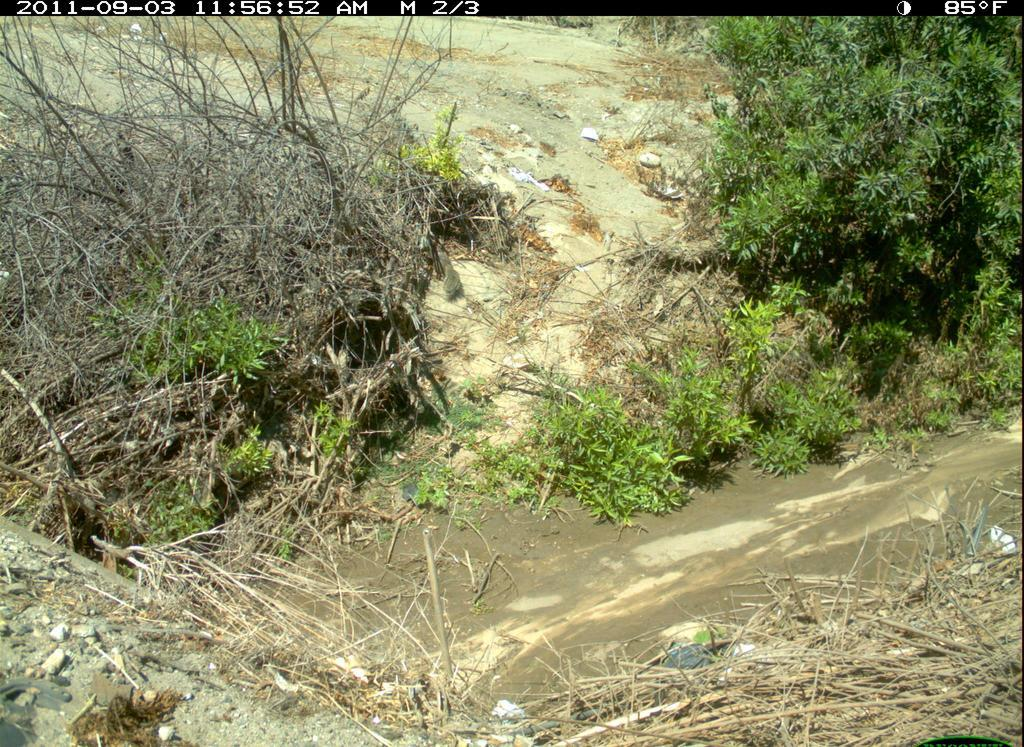squirrel: (427, 244, 474, 308)
